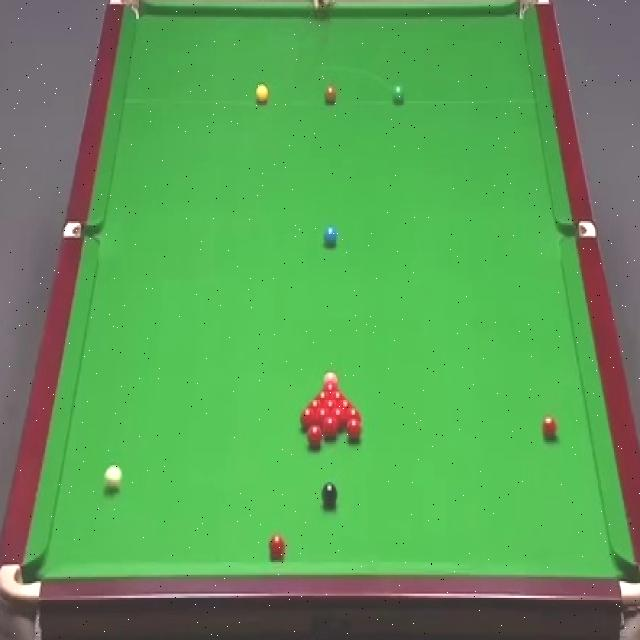black-ball: (321, 482, 338, 508)
blue-ball: (323, 225, 338, 244)
brown-ball: (323, 86, 338, 104)
green-ball: (391, 82, 406, 107)
pink-ball: (323, 372, 340, 389)
red-ball: (540, 416, 558, 442), (300, 406, 317, 432), (268, 534, 285, 560), (344, 420, 363, 442), (307, 423, 323, 446), (329, 408, 347, 428), (323, 415, 338, 438), (345, 408, 362, 428), (317, 409, 329, 429), (308, 397, 324, 412), (323, 397, 338, 413), (337, 398, 354, 412), (316, 389, 331, 403), (330, 388, 344, 403)
white-ball: (105, 462, 122, 493)
yellow-ball: (254, 83, 270, 105)
